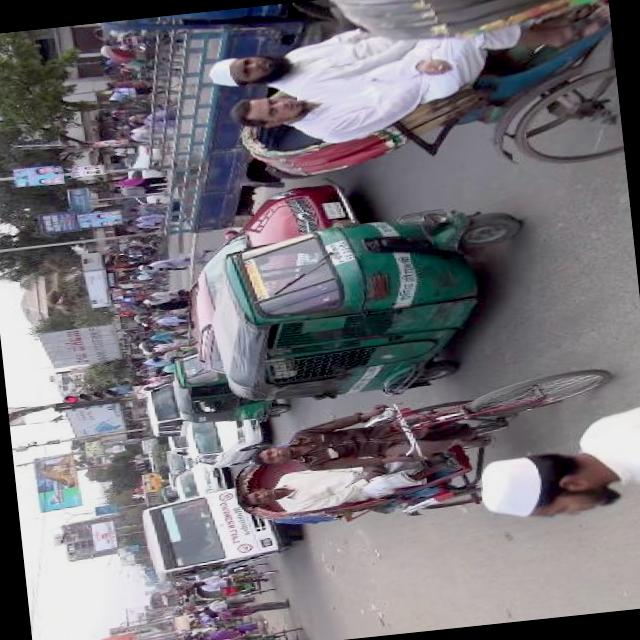bus: (134, 476, 306, 580)
car: (242, 171, 356, 239), (182, 414, 266, 468), (163, 456, 236, 498)
motorcycle: (195, 194, 542, 414), (220, 362, 636, 536), (172, 340, 294, 429), (96, 34, 182, 92), (182, 559, 288, 601), (208, 622, 312, 640), (128, 306, 170, 321)
truck: (115, 7, 266, 242)
